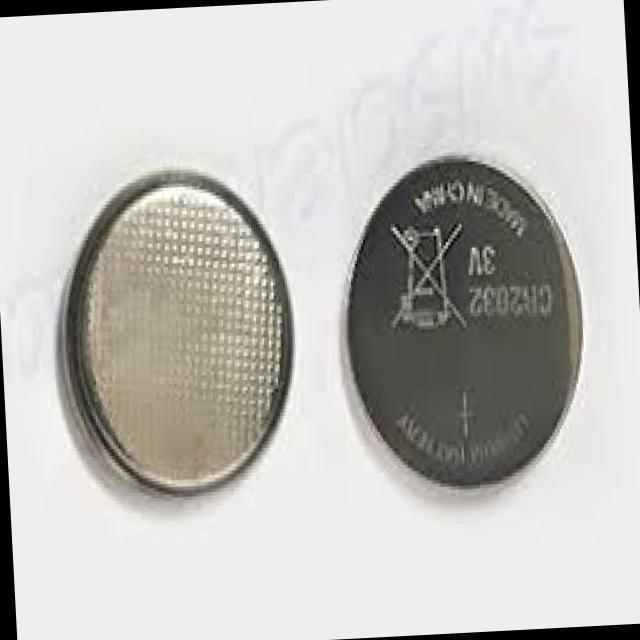COIN: (321, 139, 611, 519), (46, 157, 312, 527)
